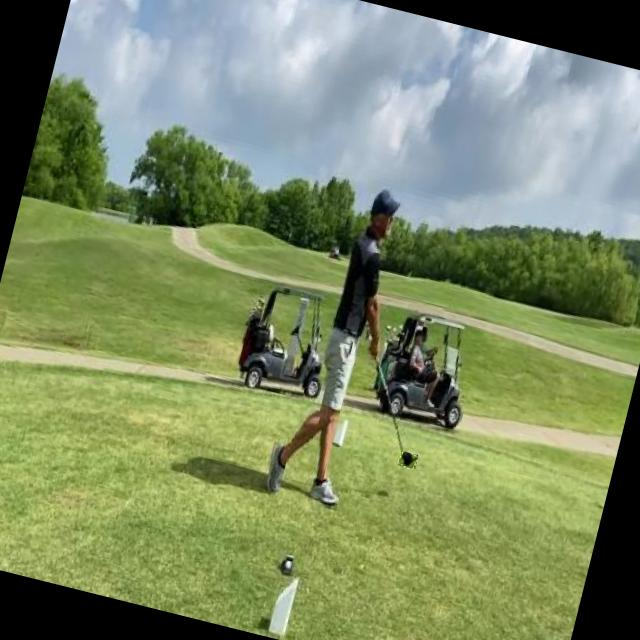club head: (398, 450, 418, 470)
